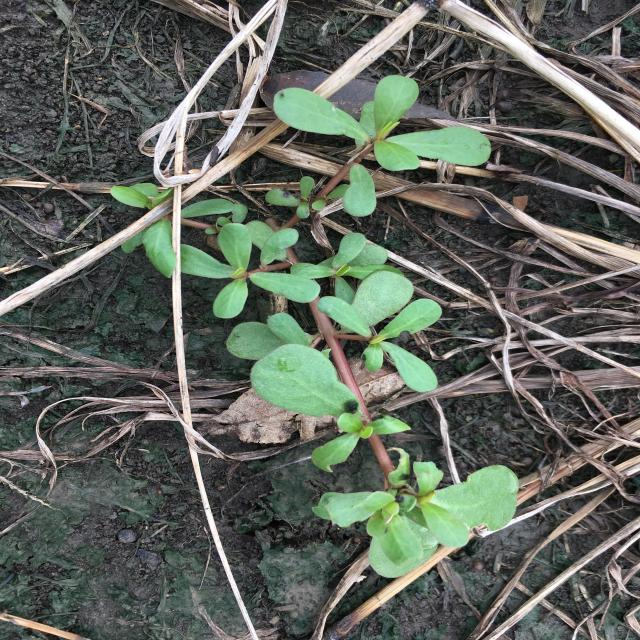Purslane: (110, 75, 520, 578)
